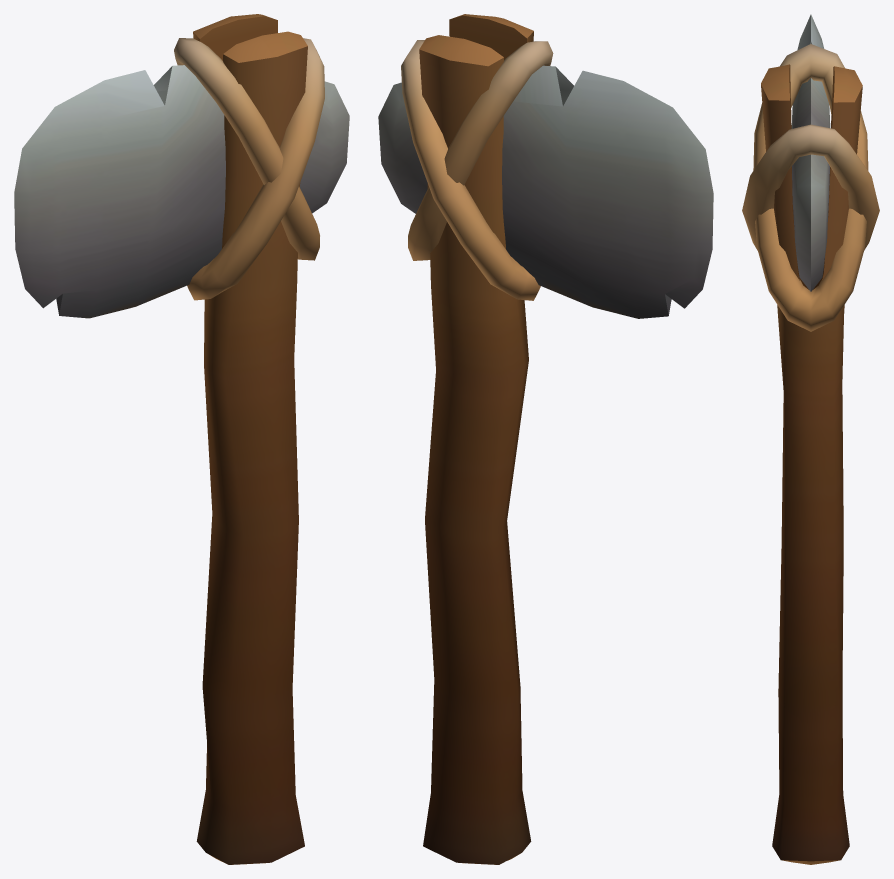
Rendered from Axe_01.glb.
3 views of the same model, side by side, from view 1: azimuth 30°, elevation 25°; view 2: azimuth 150°, elevation 25°; view 3: azimuth 270°, elevation 25° (orthographic). The views are drawn at different scales.
Visible parts, largest first — view 1: Axe_01; view 2: Axe_01; view 3: Axe_01.
Part boxes in pixels (bbox=[...]): Axe_01: bbox=[14, 14, 349, 864]; Axe_01: bbox=[378, 14, 713, 864]; Axe_01: bbox=[742, 14, 879, 864].
Size of the model in its own units: 0.4367 by 1.03 by 0.165.
1 material, 1 textured.
